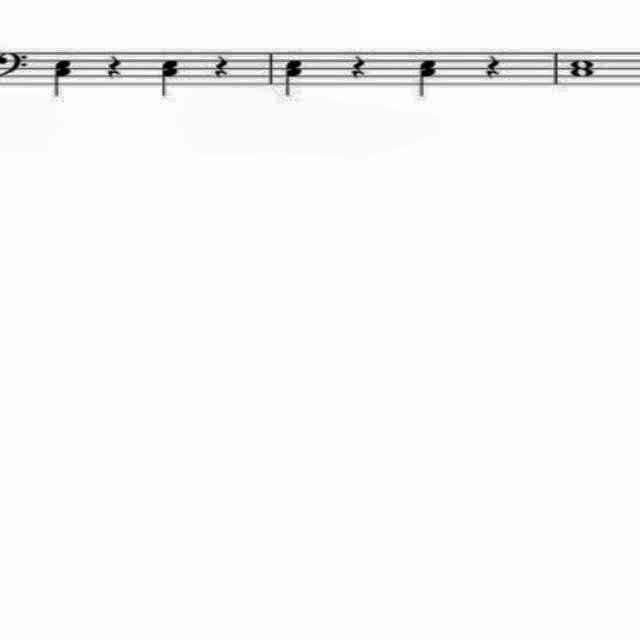Bass-clef: (1, 48, 31, 80)
Quarter-rest: (480, 49, 508, 82), (99, 52, 125, 80), (346, 53, 369, 83), (213, 54, 231, 82)
